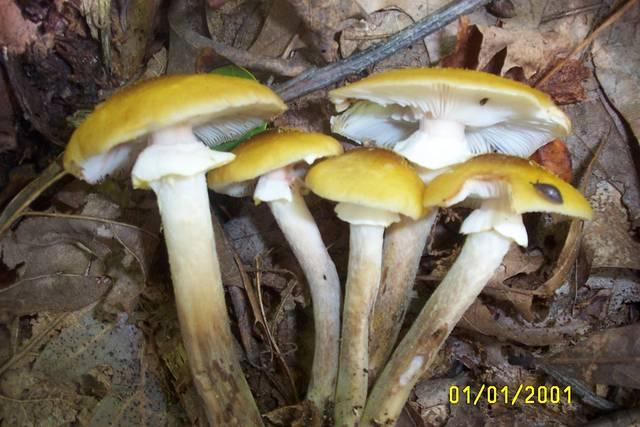Edible Mushroom: (61, 71, 288, 426), (359, 151, 593, 426), (206, 126, 344, 424), (303, 146, 425, 425), (327, 61, 570, 181)
